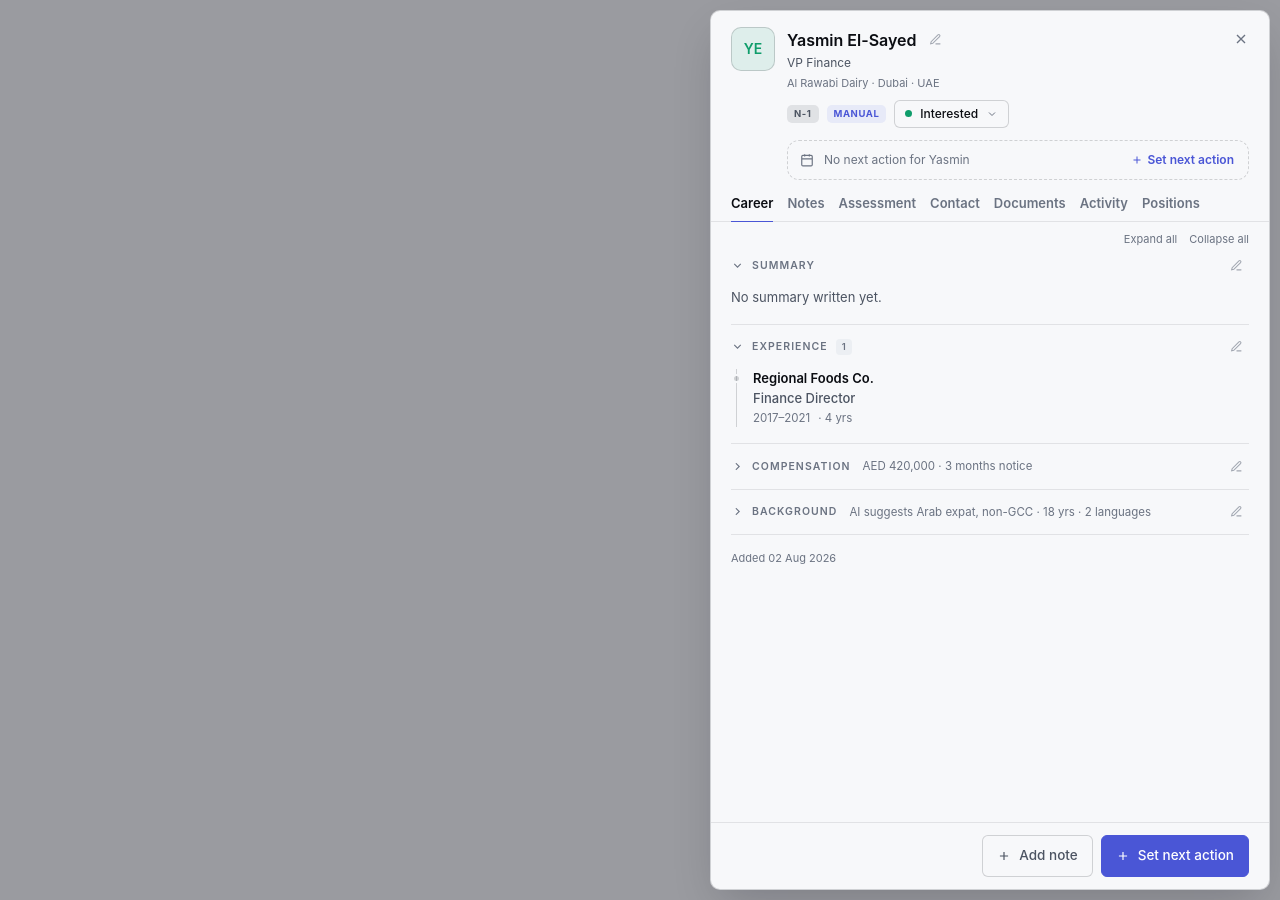
Test case: Background AI › offers a medium nationality reading as a suggestion, and Accept records it
// The fold starts shut, so its one-line summary is where the suggestion is first seen.
Click the button that starts with "Background": click(974, 512) [723, 490, 1224, 534]
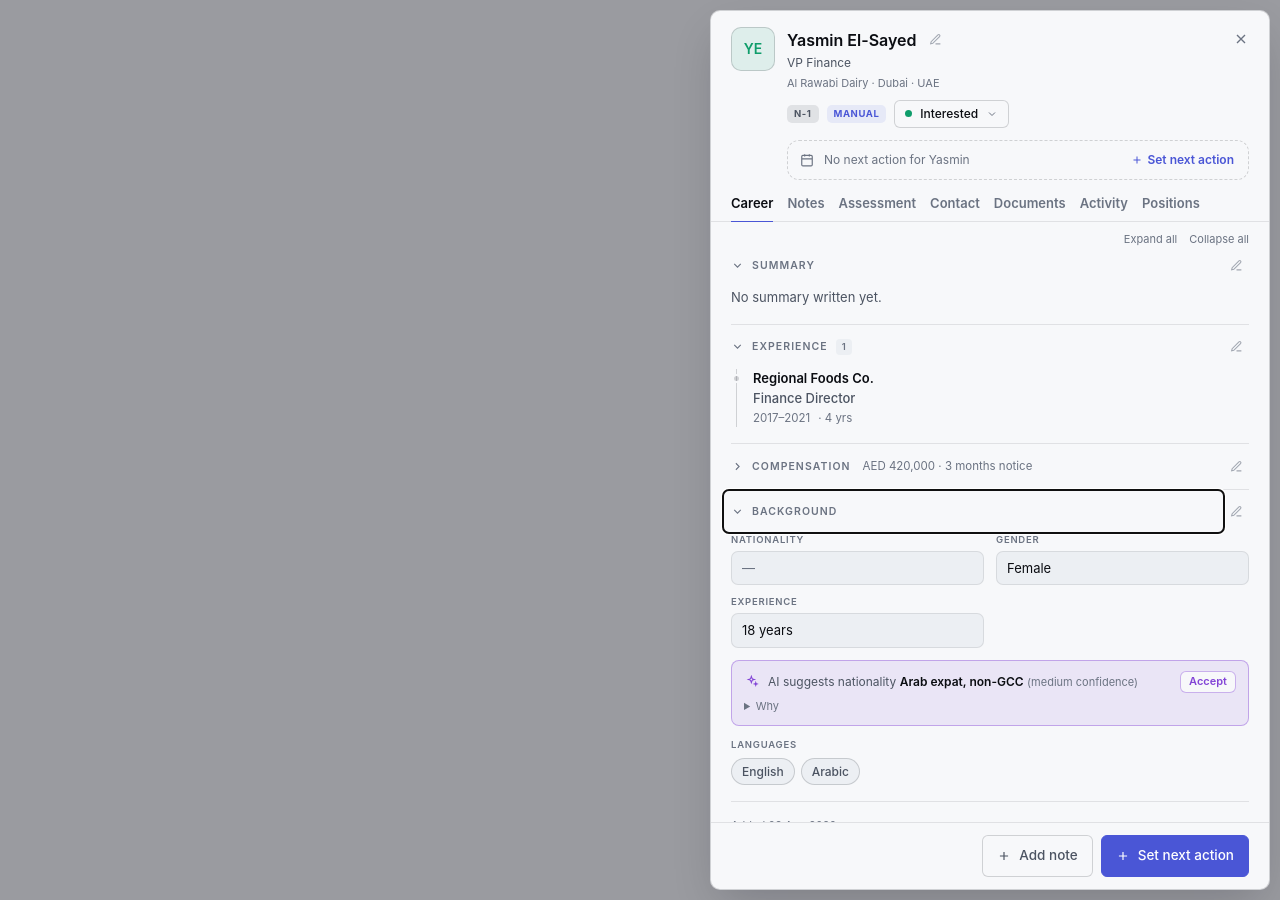
Expected: the text "Arab expat, non-GCC" is shown, [900, 674, 1024, 689]
Expected: the text "(medium confidence)" is shown, [1027, 675, 1138, 689]
Click the button "Accept": click(1208, 682) [1180, 671, 1236, 693]
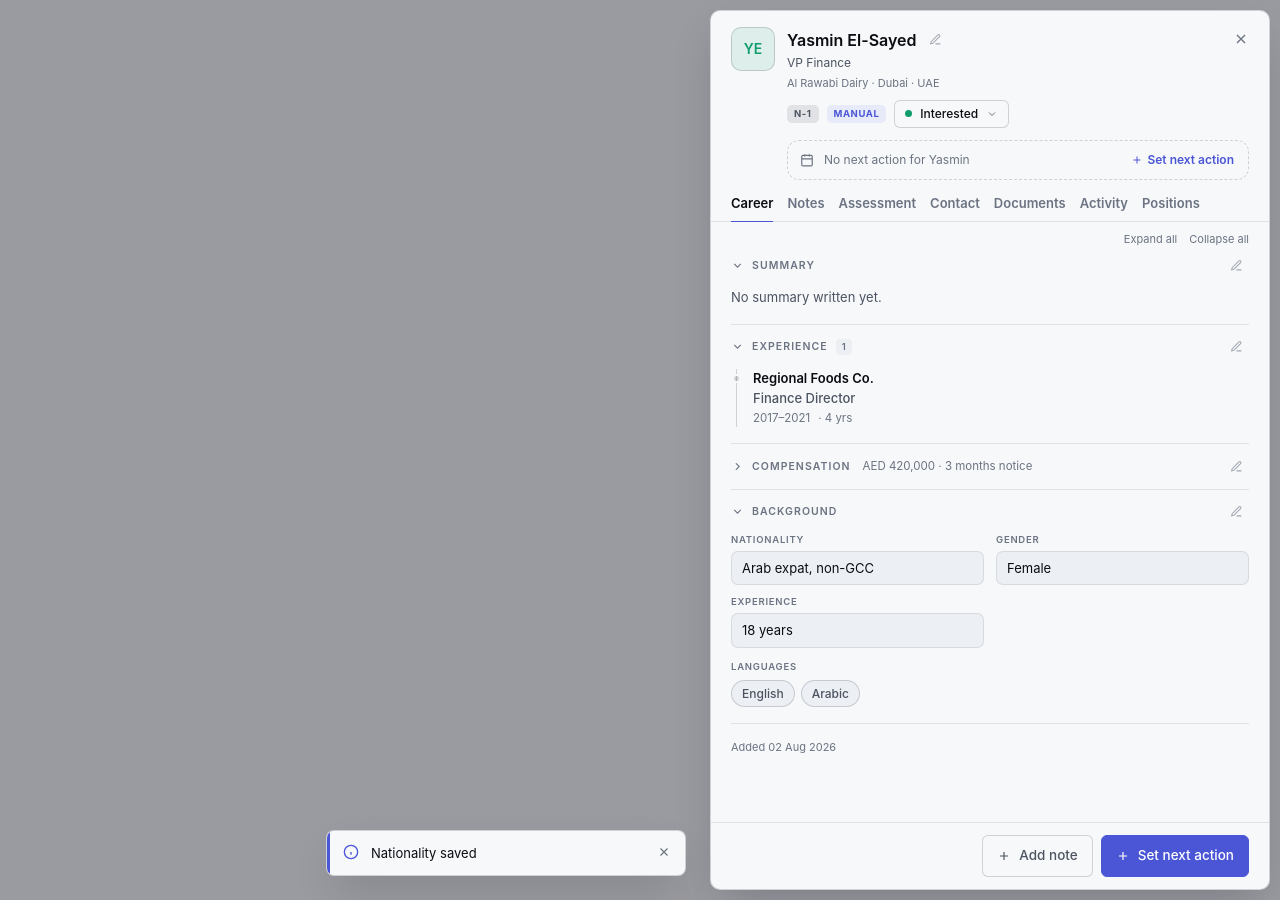
Result: the text "Arab expat, non-GCC" is shown at [731, 550, 984, 585]
